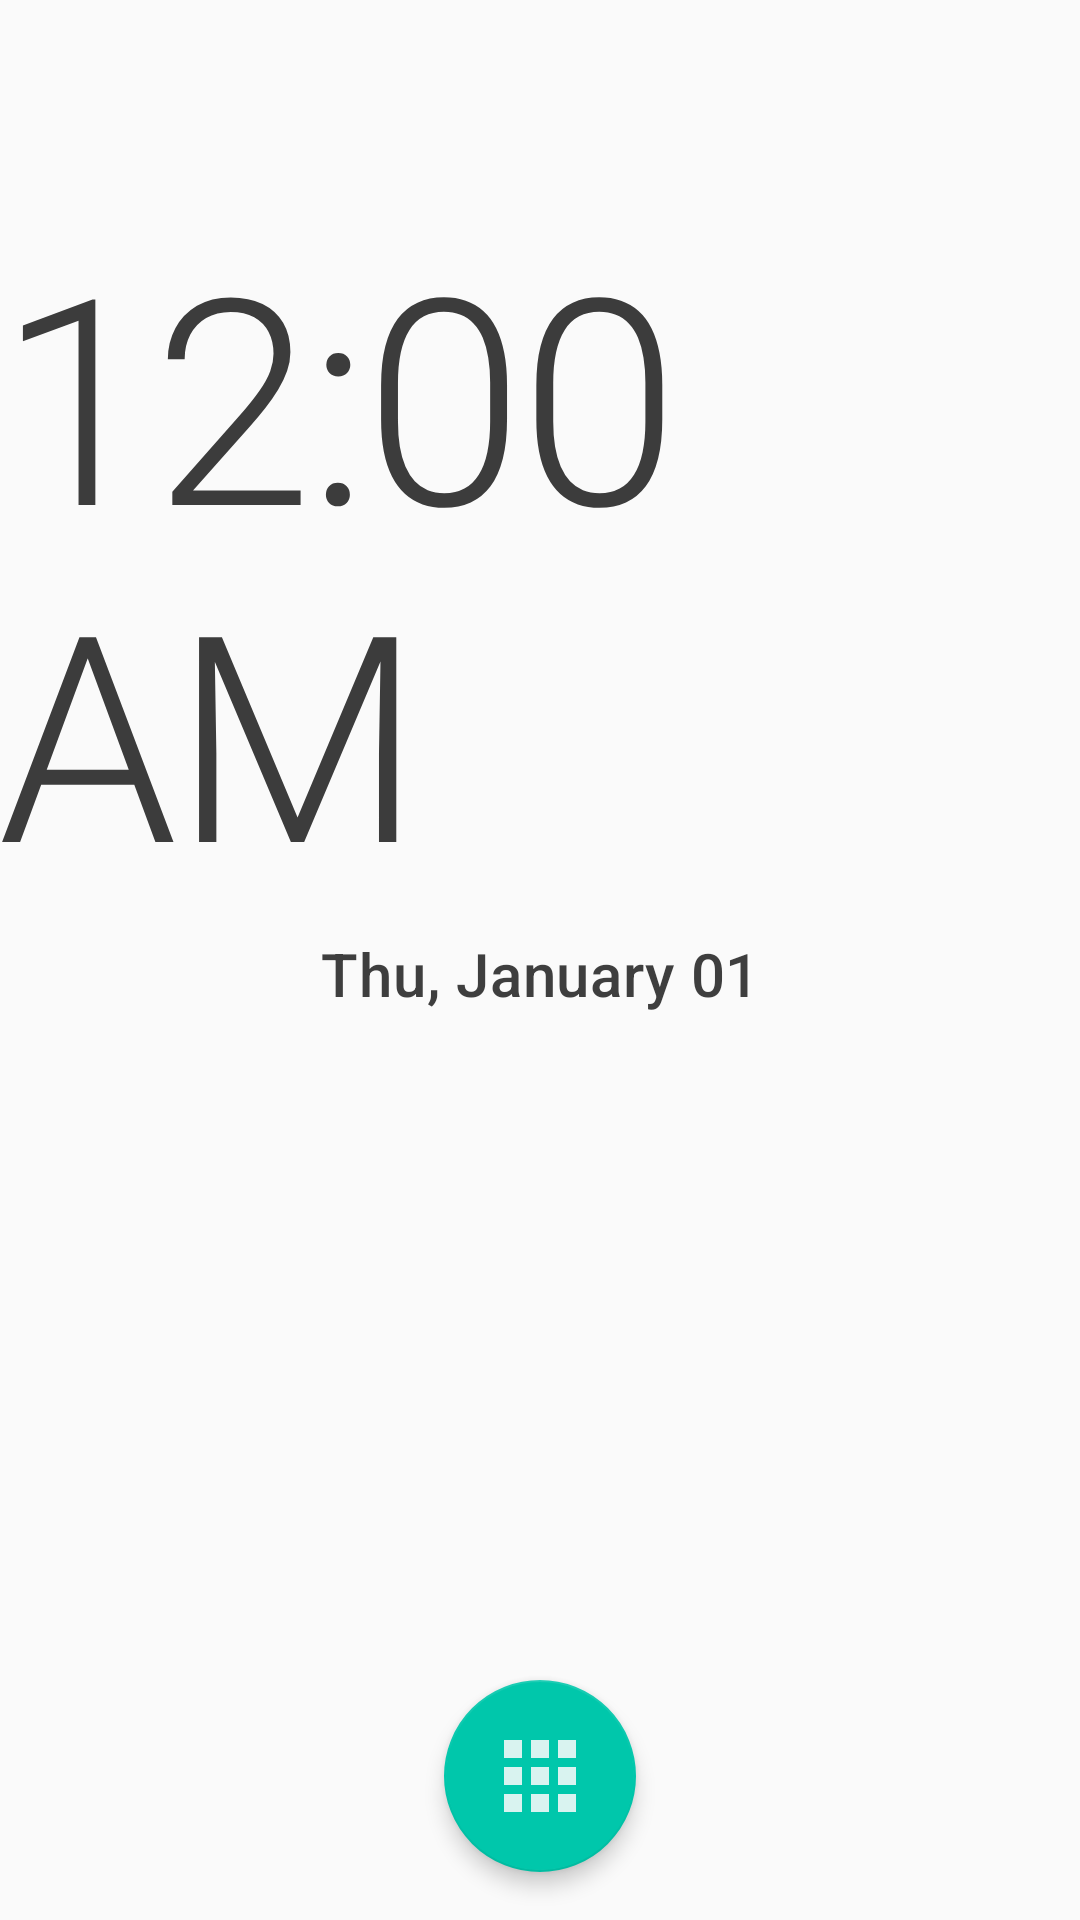

Named icons in this screenshot (1080w x 1920h) and their centers, (x=x, y=y):
apps: (x=540, y=1776)
